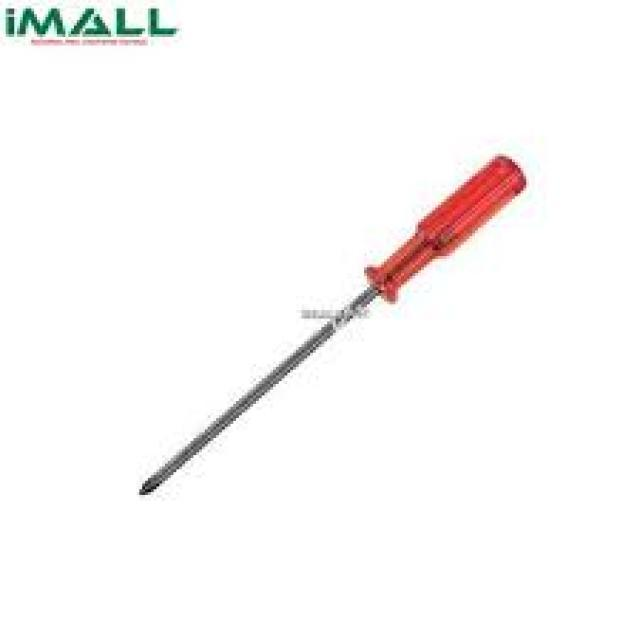screwdriver: (135, 154, 528, 501)
